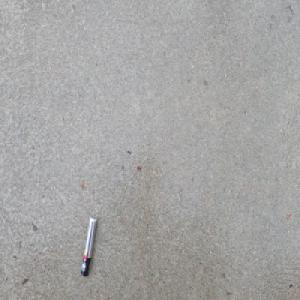Battery: (79, 214, 97, 278)
